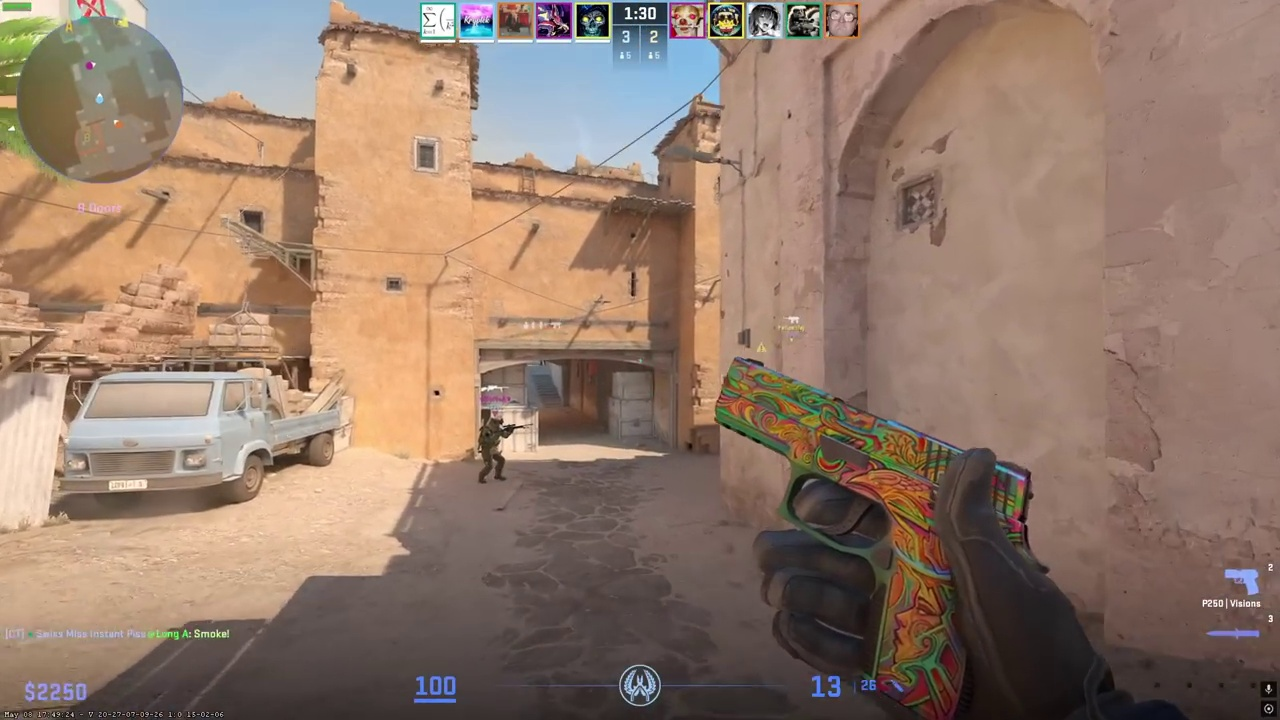CT: (479, 416, 510, 483)
